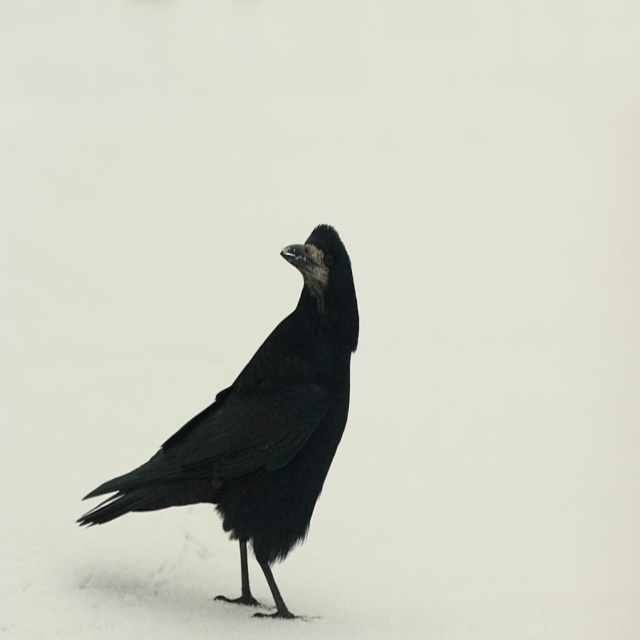Raven: (75, 223, 393, 622)
